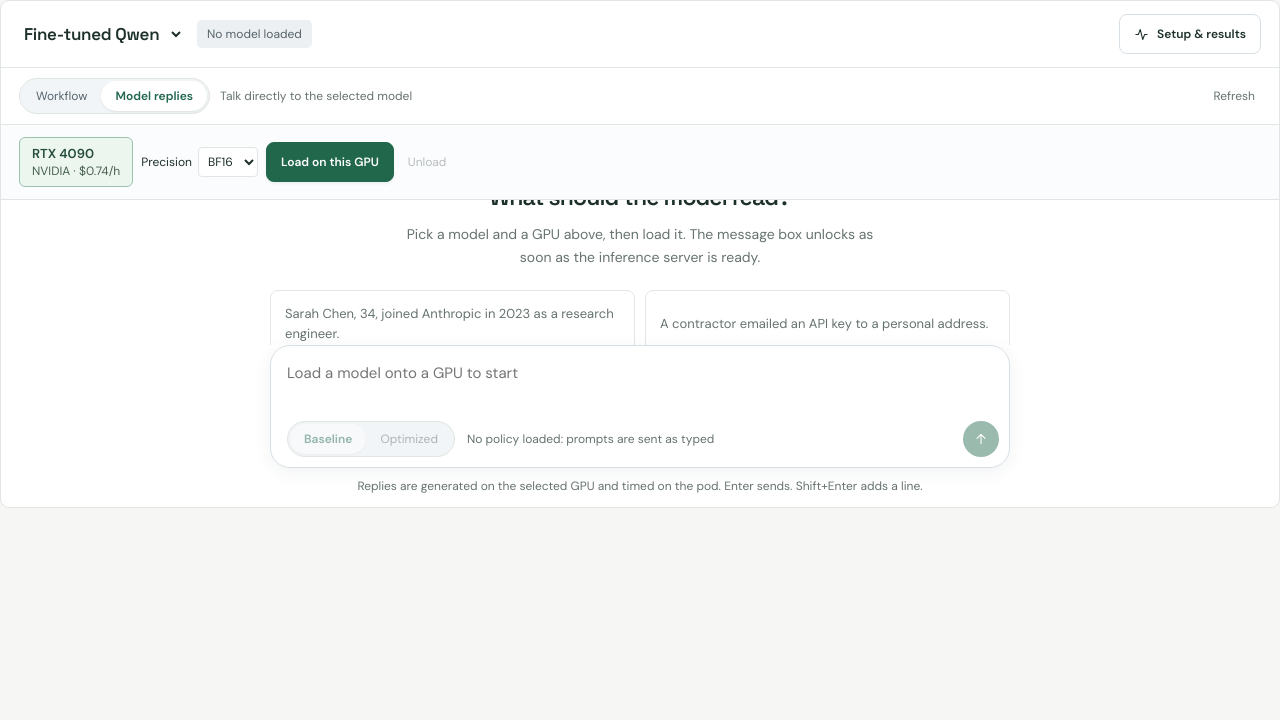
Test: dismissed plans never issue a job request
(page scrolled)
Step 1. Click the button "Workflow" → (62, 96), box [22, 81, 101, 111]
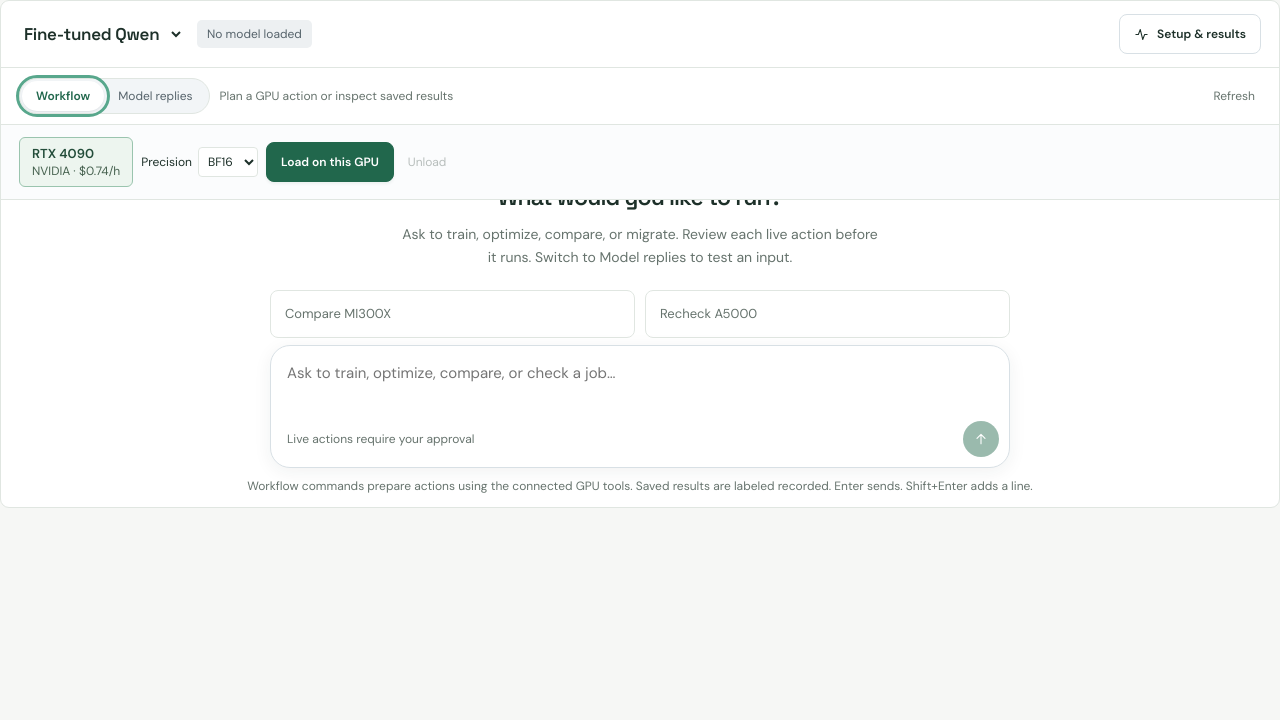
Step 2. Type "/train-baseline" into the text box named "Message GPU workflow" → (643, 384), box [287, 354, 999, 415]
Then press Enter
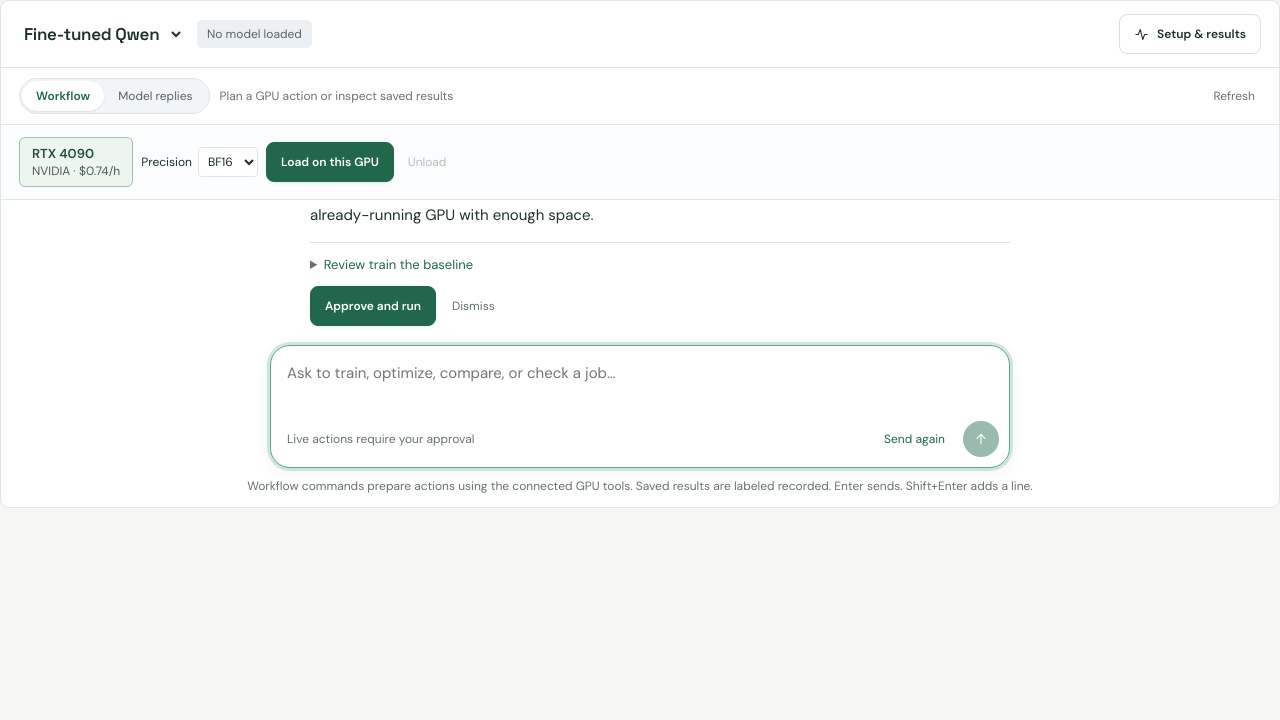
Step 3. Click the button "Dismiss" → (473, 306), box [446, 288, 501, 324]
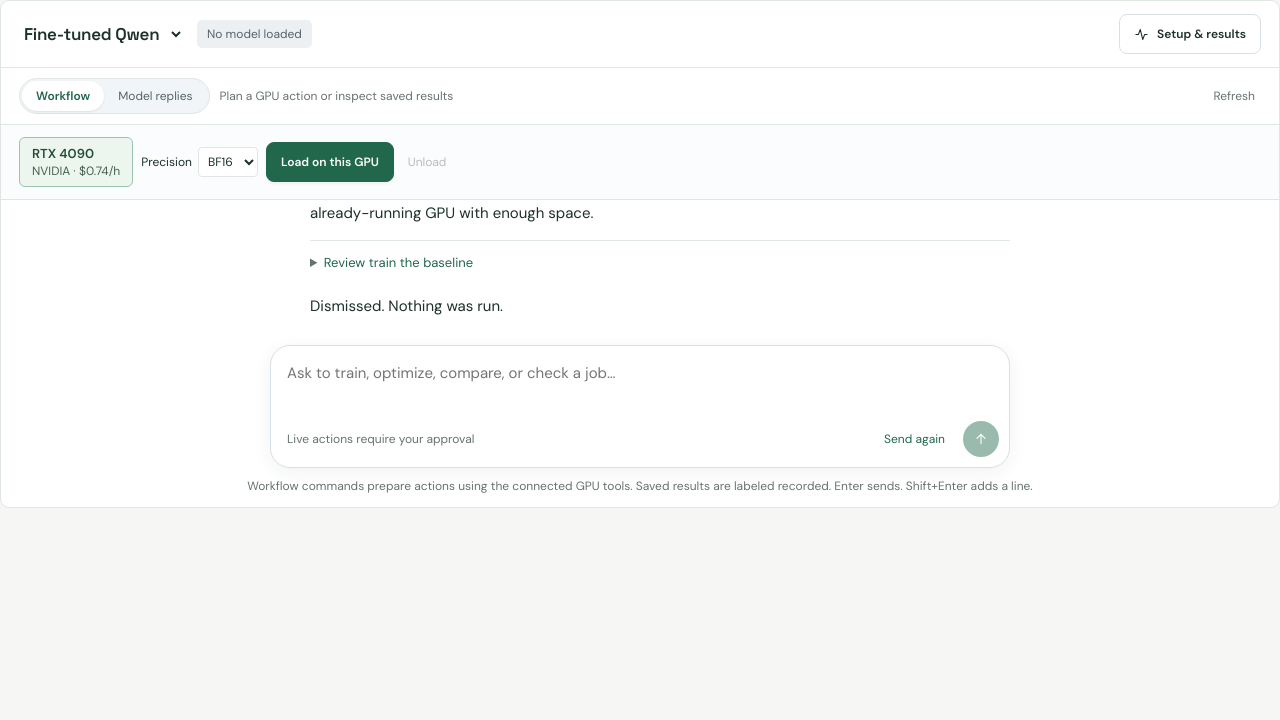
Expected: the text "Dismissed. Nothing was run." is shown, [310, 296, 503, 316]
Expected: the button "Approve and run" is gone
